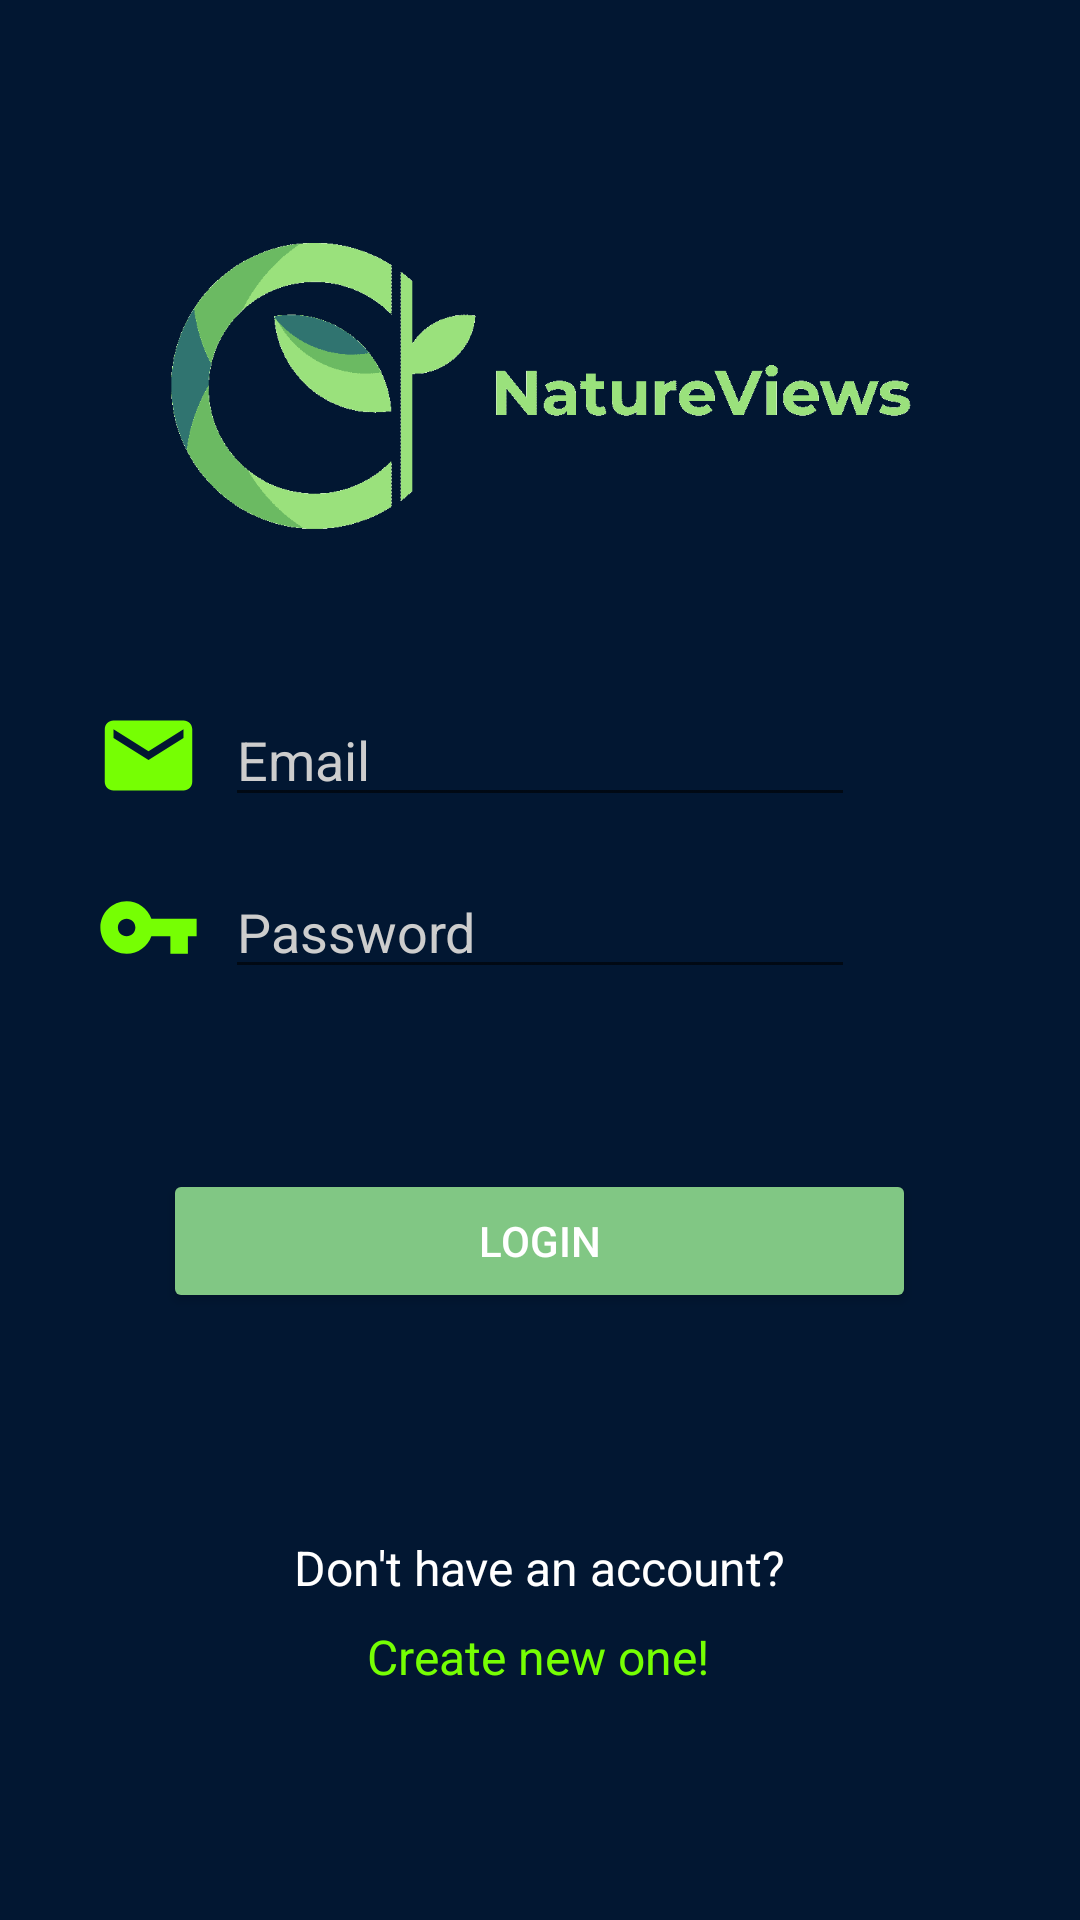

Locate icon controls on the screen. Image size 1080x1920, boxes as (x1, y1, x2, y2).
vpn key: (100, 901, 197, 954)
